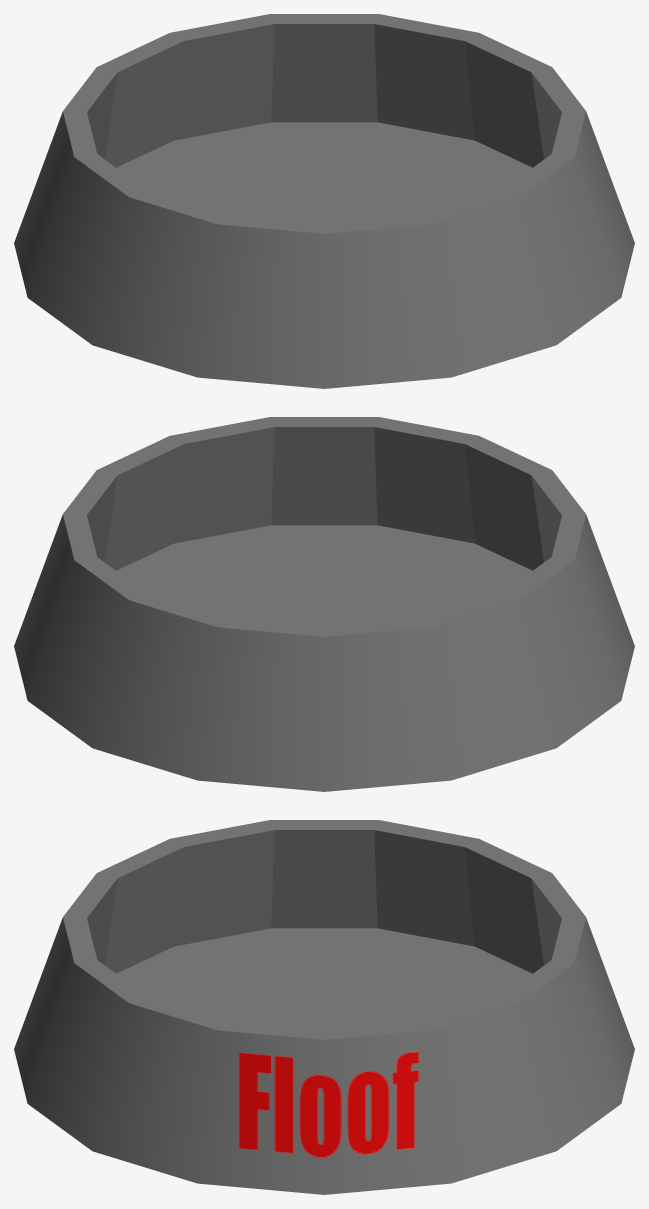
File: Dog Bowl.fbx
3 renders of one model, top to bottom at view 1: azimuth 30°, elevation 25°; view 2: azimuth 150°, elevation 25°; view 3: azimuth 270°, elevation 25°, orthographic.
Parts seen in each view (by area): view 1: Dog Bowl; view 2: Dog Bowl; view 3: Dog Bowl.
Boxes of the visible parts, x1,y1,x2,y2 form: Dog Bowl: (14, 14, 634, 388); Dog Bowl: (14, 417, 634, 791); Dog Bowl: (14, 820, 634, 1194).
Size of the model in its own units: 26.12 by 6.27 by 26.27.
Materials: 1 (1 with a texture image).
